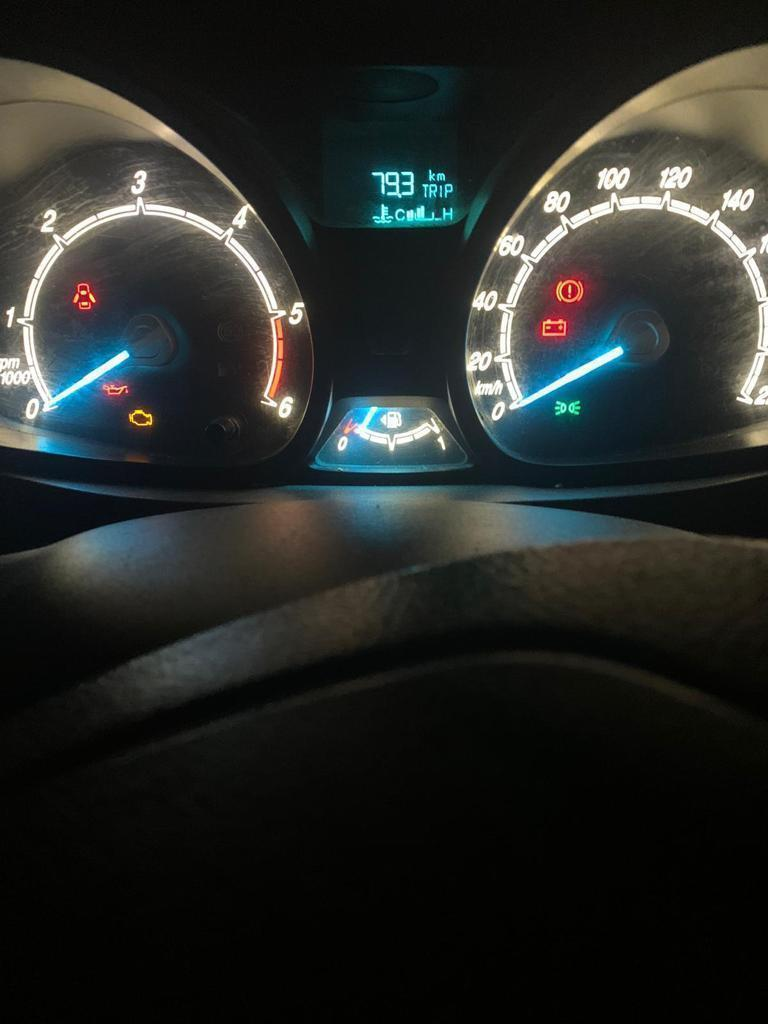,: (397, 192, 402, 200)
3: (401, 170, 414, 195)
7: (369, 170, 385, 196)
9: (384, 171, 399, 196)
X: (442, 207, 453, 220), (394, 208, 405, 221), (428, 183, 437, 198), (444, 183, 453, 198), (428, 168, 435, 182), (422, 182, 428, 198), (436, 172, 446, 181), (438, 183, 443, 199)
odometer: (308, 157, 478, 232)
